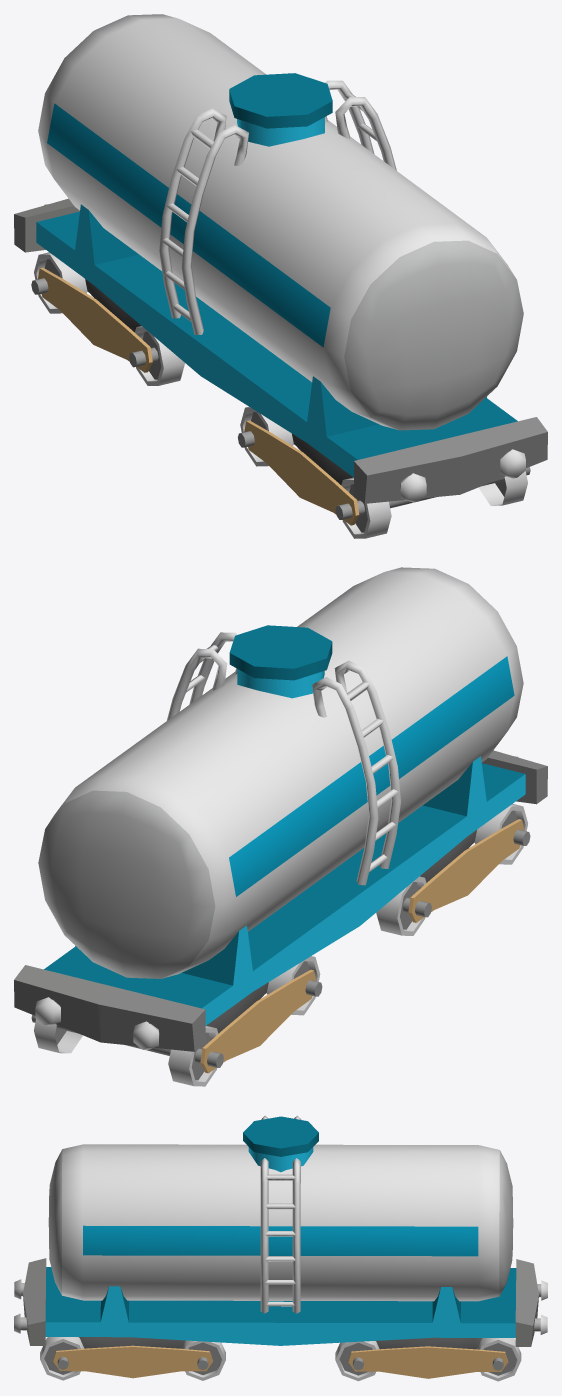
The model's file is train1.fbx.
The picture shows the model from 3 angles, top to bottom: view 1: azimuth 30°, elevation 25°; view 2: azimuth 150°, elevation 25°; view 3: azimuth 270°, elevation 25°; orthographic projection. The views are drawn at different scales.
Parts seen in each view (by area): view 1: railway_tank_01.001; view 2: railway_tank_01.001; view 3: railway_tank_01.001.
Boxes of the visible parts, box(x1,y1,x2,y2) form: railway_tank_01.001: box(14, 14, 547, 538); railway_tank_01.001: box(14, 567, 547, 1086); railway_tank_01.001: box(14, 1115, 547, 1381).
Size of the model in its own units: 56.92 by 26.04 by 19.24.
